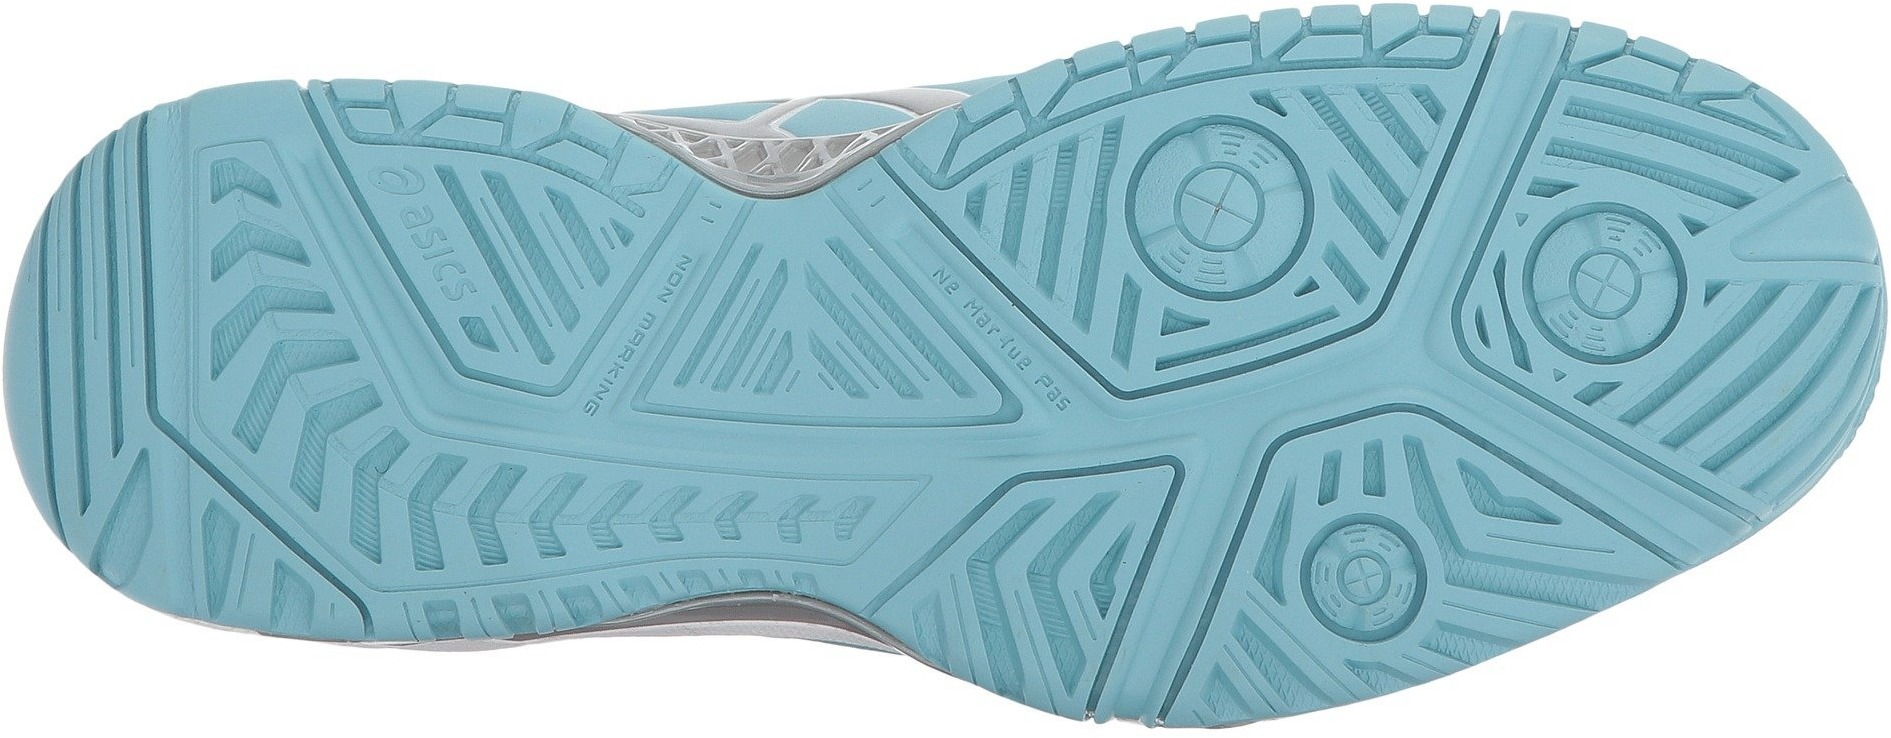chevron: (687, 218, 923, 440), (459, 437, 651, 611)
circle: (1120, 106, 1321, 310)
exclude: (170, 592, 952, 737), (584, 1, 1056, 197)
line: (21, 306, 144, 441)
triangle: (1711, 168, 1866, 311)
